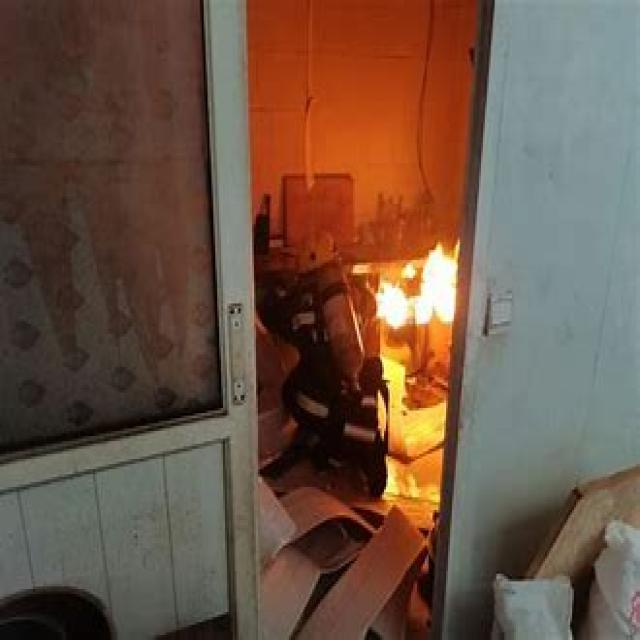fire: (376, 224, 461, 334)
